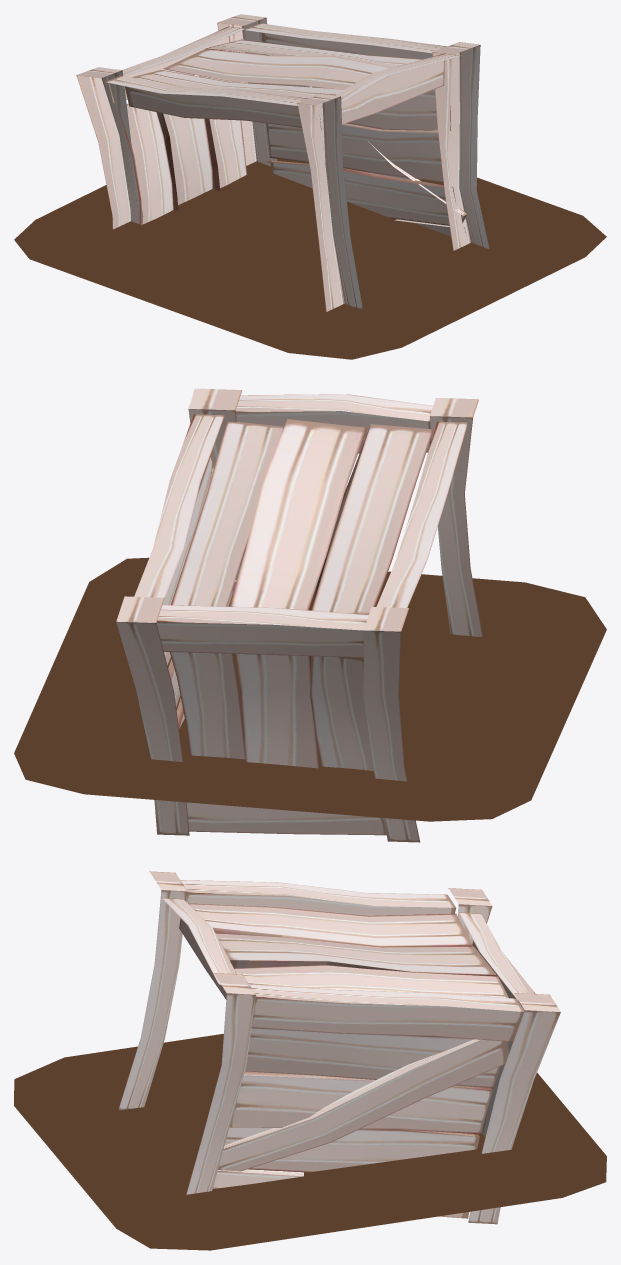
Rendered from IslandTreasureCrate1.fbx.
3 views of the same model, one above another, from view 1: azimuth 30°, elevation 25°; view 2: azimuth 150°, elevation 25°; view 3: azimuth 270°, elevation 25° (orthographic). The views are drawn at different scales.
Parts seen in each view (by area): view 1: CrateBig1, ShadowSquareDark; view 2: CrateBig1, ShadowSquareDark; view 3: CrateBig1, ShadowSquareDark.
Boxes of the visible parts, left/top/right/bottom form: CrateBig1: left=76, top=14, right=489, bottom=311; ShadowSquareDark: left=14, top=158, right=606, bottom=359; CrateBig1: left=116, top=388, right=482, bottom=842; ShadowSquareDark: left=14, top=557, right=606, bottom=821; CrateBig1: left=118, top=871, right=560, bottom=1224; ShadowSquareDark: left=14, top=1033, right=606, bottom=1250.
Size of the model in its own units: 1.44 by 0.8065 by 1.47.
